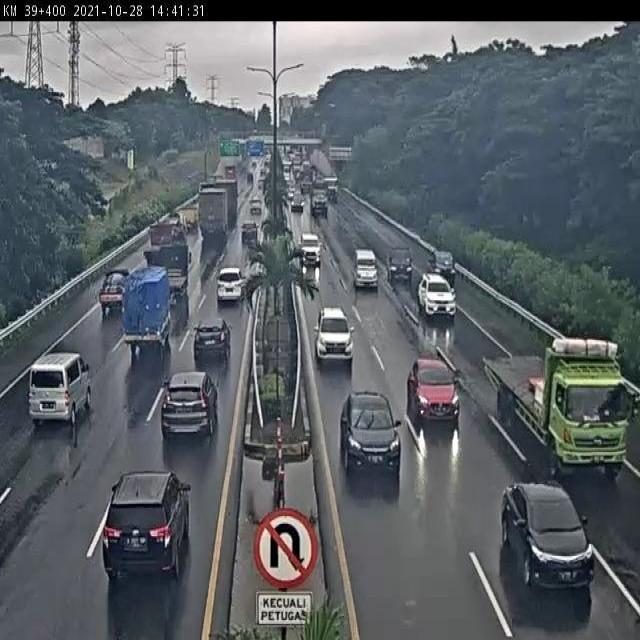car: (500, 480, 595, 592), (102, 469, 191, 579), (338, 392, 401, 480), (27, 352, 93, 427), (160, 371, 219, 438), (406, 358, 460, 426), (314, 307, 353, 365), (417, 273, 457, 319), (193, 317, 231, 364), (98, 267, 131, 316), (426, 250, 456, 286), (216, 268, 246, 304), (353, 248, 378, 289), (385, 248, 413, 284)
truck-l-: (482, 326, 630, 478)
truck-m-: (124, 265, 171, 351), (151, 246, 189, 306), (144, 223, 173, 264), (162, 213, 188, 244)
